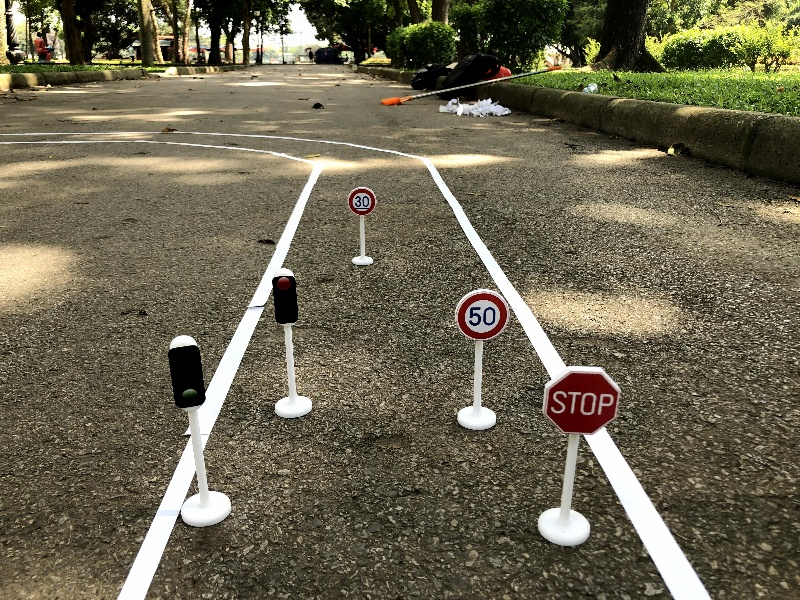Green: (167, 333, 233, 527)
Limit 30: (347, 187, 377, 267)
Limit 50: (455, 288, 510, 430)
Red: (272, 267, 314, 419)
Stop: (538, 366, 621, 546)
